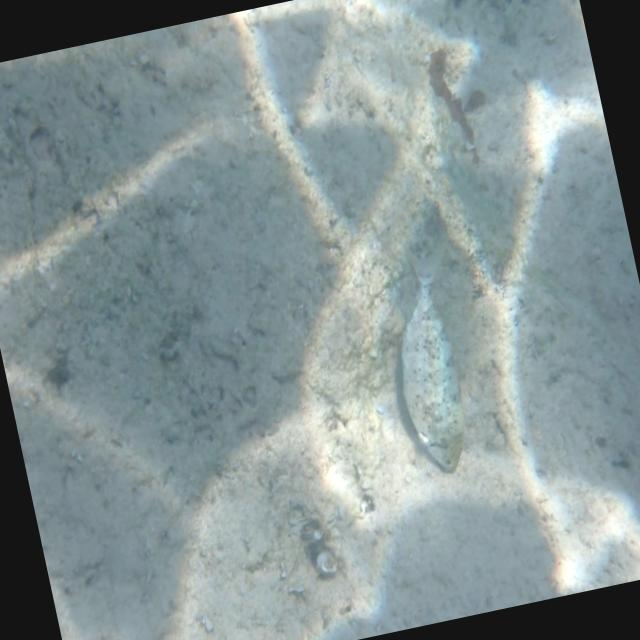Sokar Baligi: (348, 212, 506, 497)
